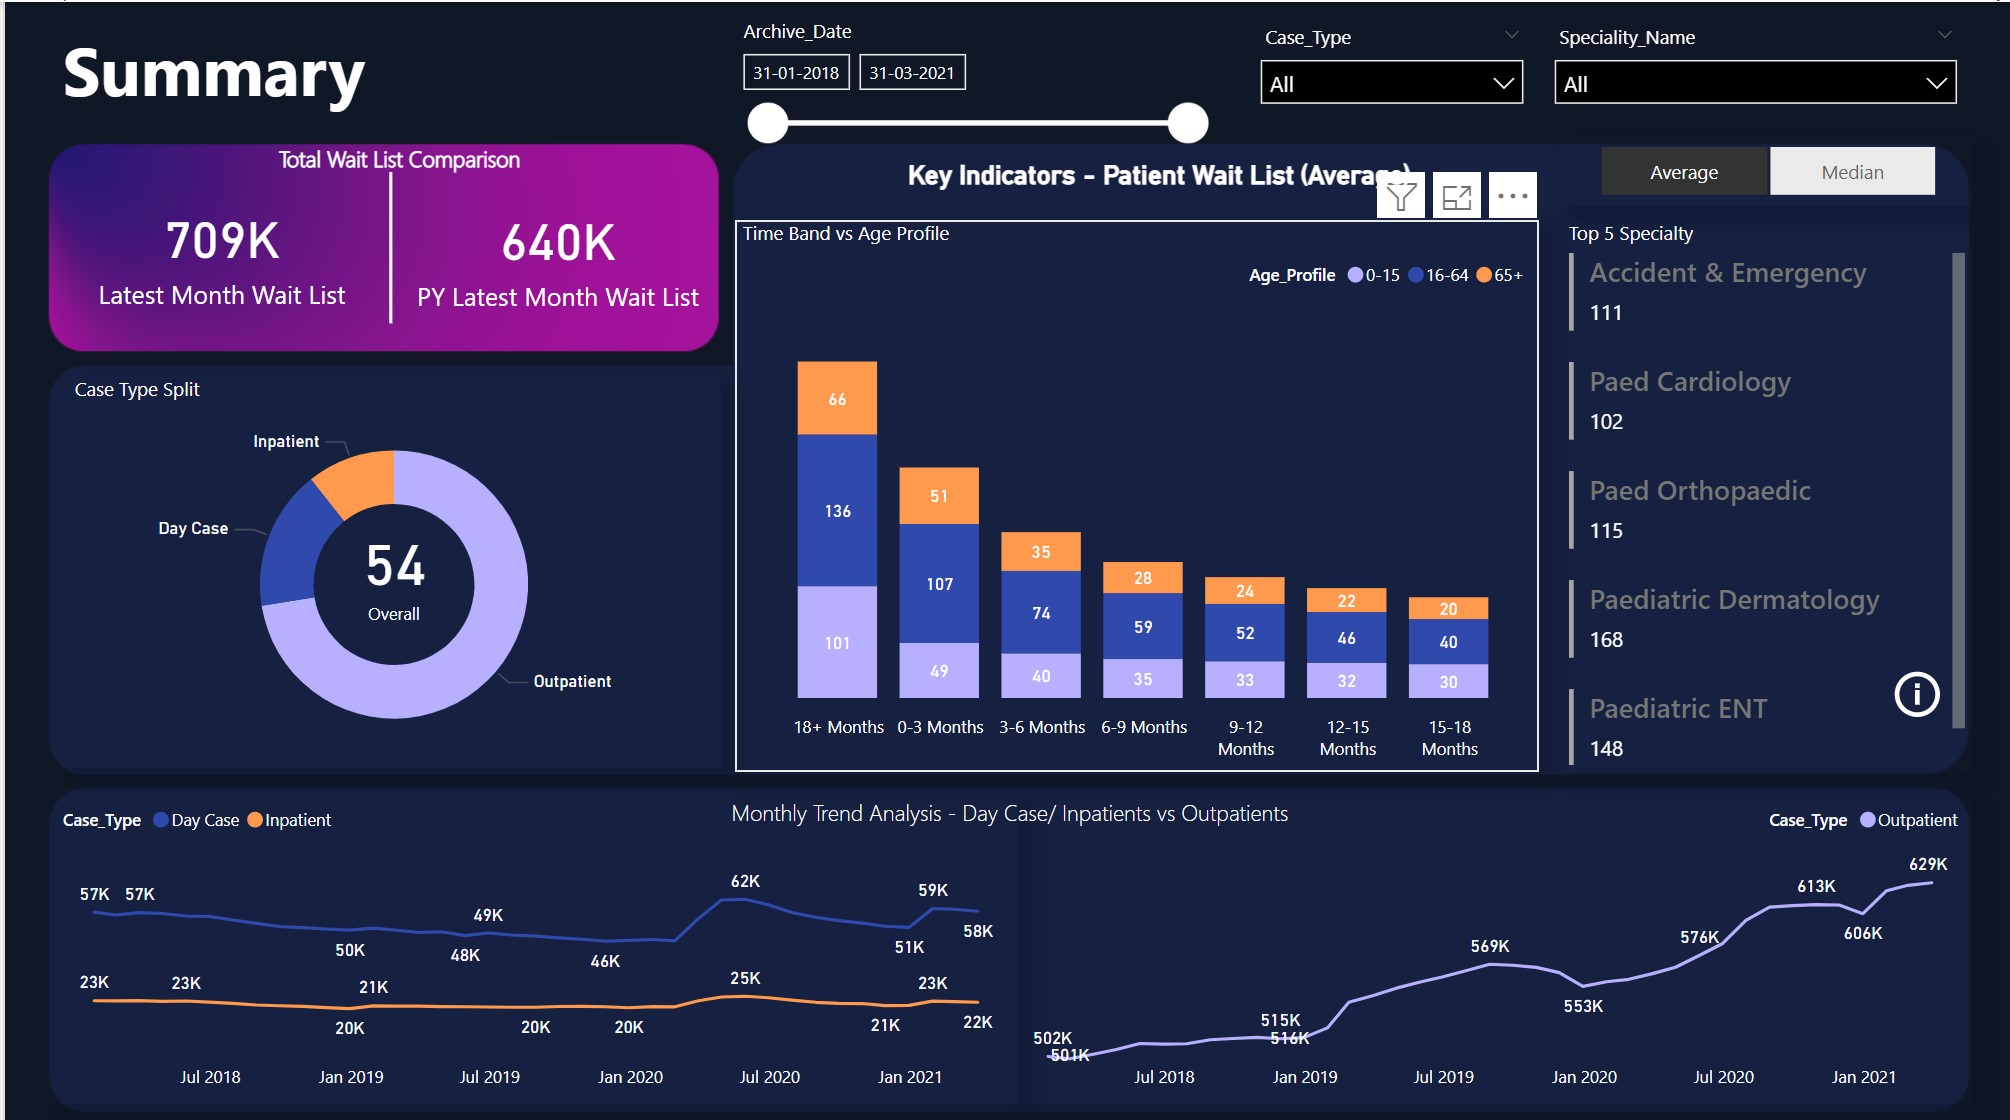

This screenshot's page, from the dashboard's own definition file:
{"tool":"powerbi","page":{"name":"Summary","canvas":[1280,720],"ordinal":0},"visuals":[{"type":"card","fields":{"Values":["All_Data.Latest Month Wait List"]},"box":[39.5,105.8,197.6,108.4],"z":0},{"type":"card","fields":{"Values":["All_Data.PY Latest Month Wait List"]},"box":[257.5,108.4,190,105.8],"z":1000},{"type":"slicer","fields":{"Values":["Calculation_Table.Calc_Method"]},"box":[991.9,85.4,262.6,44.6],"z":2000},{"type":"donutChart","title":"Case Type Split","fields":{"Category":["All_Data.Case_Type"],"Y":["All_Data.Avg/Med Wait List"]},"box":[39.5,238.4,416.9,249.9],"z":3000},{"type":"columnChart","title":"Time Band vs Age Profile","fields":{"Y":["All_Data.Avg/Med Wait List"],"Series":["All_Data.Age_Profile"],"Category":["All_Data.Time_Bands"]},"box":[465.3,139,512.5,351.9],"z":4000},{"type":"multiRowCard","title":"Top 5 Specialty","fields":{"Values":["All_Data.Speciality_Name","All_Data.Avg/Med Wait List"]},"box":[991.9,139,262.6,351.9],"z":5000},{"type":"card","fields":{"Values":["All_Data.No_Data_Left"]},"box":[161.6,570.4,388.9,114.8],"z":6000},{"type":"lineChart","fields":{"Category":["All_Data.Archive_Date"],"Y":["Sum(All_Data.Total)"],"Series":["All_Data.Case_Type"]},"box":[31.8,502.7,614.2,200.2],"z":7000},{"type":"card","fields":{"Values":["All_Data.No_Data_Right"]},"box":[753.3,569.6,388.9,114.8],"z":8000},{"type":"lineChart","fields":{"Category":["All_Data.Archive_Date"],"Y":["Sum(All_Data.Total)"],"Series":["All_Data.Case_Type"]},"box":[640.4,502.7,614.2,200.2],"z":9000},{"type":"slicer","fields":{"Values":["All_Data.Archive_Date"]},"box":[457.3,4.5,317.3,86.4],"z":10000},{"type":"slicer","fields":{"Values":["All_Data.Case_Type"]},"box":[790.5,9.1,187.7,76.2],"z":11000},{"type":"slicer","fields":{"Values":["All_Data.Speciality_Name"]},"box":[978.2,9.1,276.4,83],"z":12000},{"type":"textbox","box":[31.8,9.1,216.1,76.2],"z":13000},{"type":"card","title":"Overall","fields":{"Values":["All_Data.Avg/Med Wait List"]},"box":[194.5,315.1,105.8,95.5],"z":14000},{"type":"shape","box":[240,108.1,12.5,96.7],"z":15000},{"type":"textbox","box":[102.4,85.3,299.1,28.4],"z":16000},{"type":"textbox","box":[401.6,502.3,478.1,38.2],"z":17000},{"type":"card","title":"Overall","fields":{"Values":["All_Data.Dynamic Title"]},"box":[465.3,91.8,540.6,38.2],"z":18000},{"type":"actionButton","box":[1200,422,43.2,38.7],"z":19000}]}

Visuals, with their boxes in screenshot pixels (x1, y1, x2, y2), scaled from the page's 1280x720 canvas onto the 2010x1120 screenshot:
card - All_Data.Latest Month Wait List: detection(62, 165, 372, 333)
card - All_Data.PY Latest Month Wait List: detection(404, 169, 703, 333)
slicer - Calculation_Table.Calc_Method: detection(1558, 133, 1970, 202)
"Case Type Split" donutChart: detection(62, 371, 717, 760)
"Time Band vs Age Profile" columnChart: detection(731, 216, 1535, 764)
"Top 5 Specialty" multiRowCard: detection(1558, 216, 1970, 764)
card - All_Data.No_Data_Left: detection(254, 887, 864, 1066)
lineChart - All_Data.Archive_Date x Sum(All_Data.Total): detection(50, 782, 1014, 1093)
card - All_Data.No_Data_Right: detection(1183, 886, 1794, 1065)
lineChart - All_Data.Archive_Date x Sum(All_Data.Total): detection(1006, 782, 1970, 1093)
slicer - All_Data.Archive_Date: detection(718, 7, 1216, 141)
slicer - All_Data.Case_Type: detection(1241, 14, 1536, 133)
slicer - All_Data.Speciality_Name: detection(1536, 14, 1970, 143)
textbox: detection(50, 14, 389, 133)
"Overall" card: detection(305, 490, 472, 639)
shape: detection(377, 168, 397, 319)
textbox: detection(161, 133, 630, 177)
textbox: detection(631, 781, 1381, 841)
"Overall" card: detection(731, 143, 1580, 202)
actionButton: detection(1884, 656, 1952, 717)
